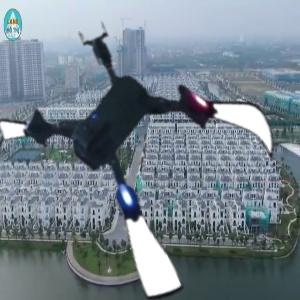drone: (2, 10, 290, 298)
